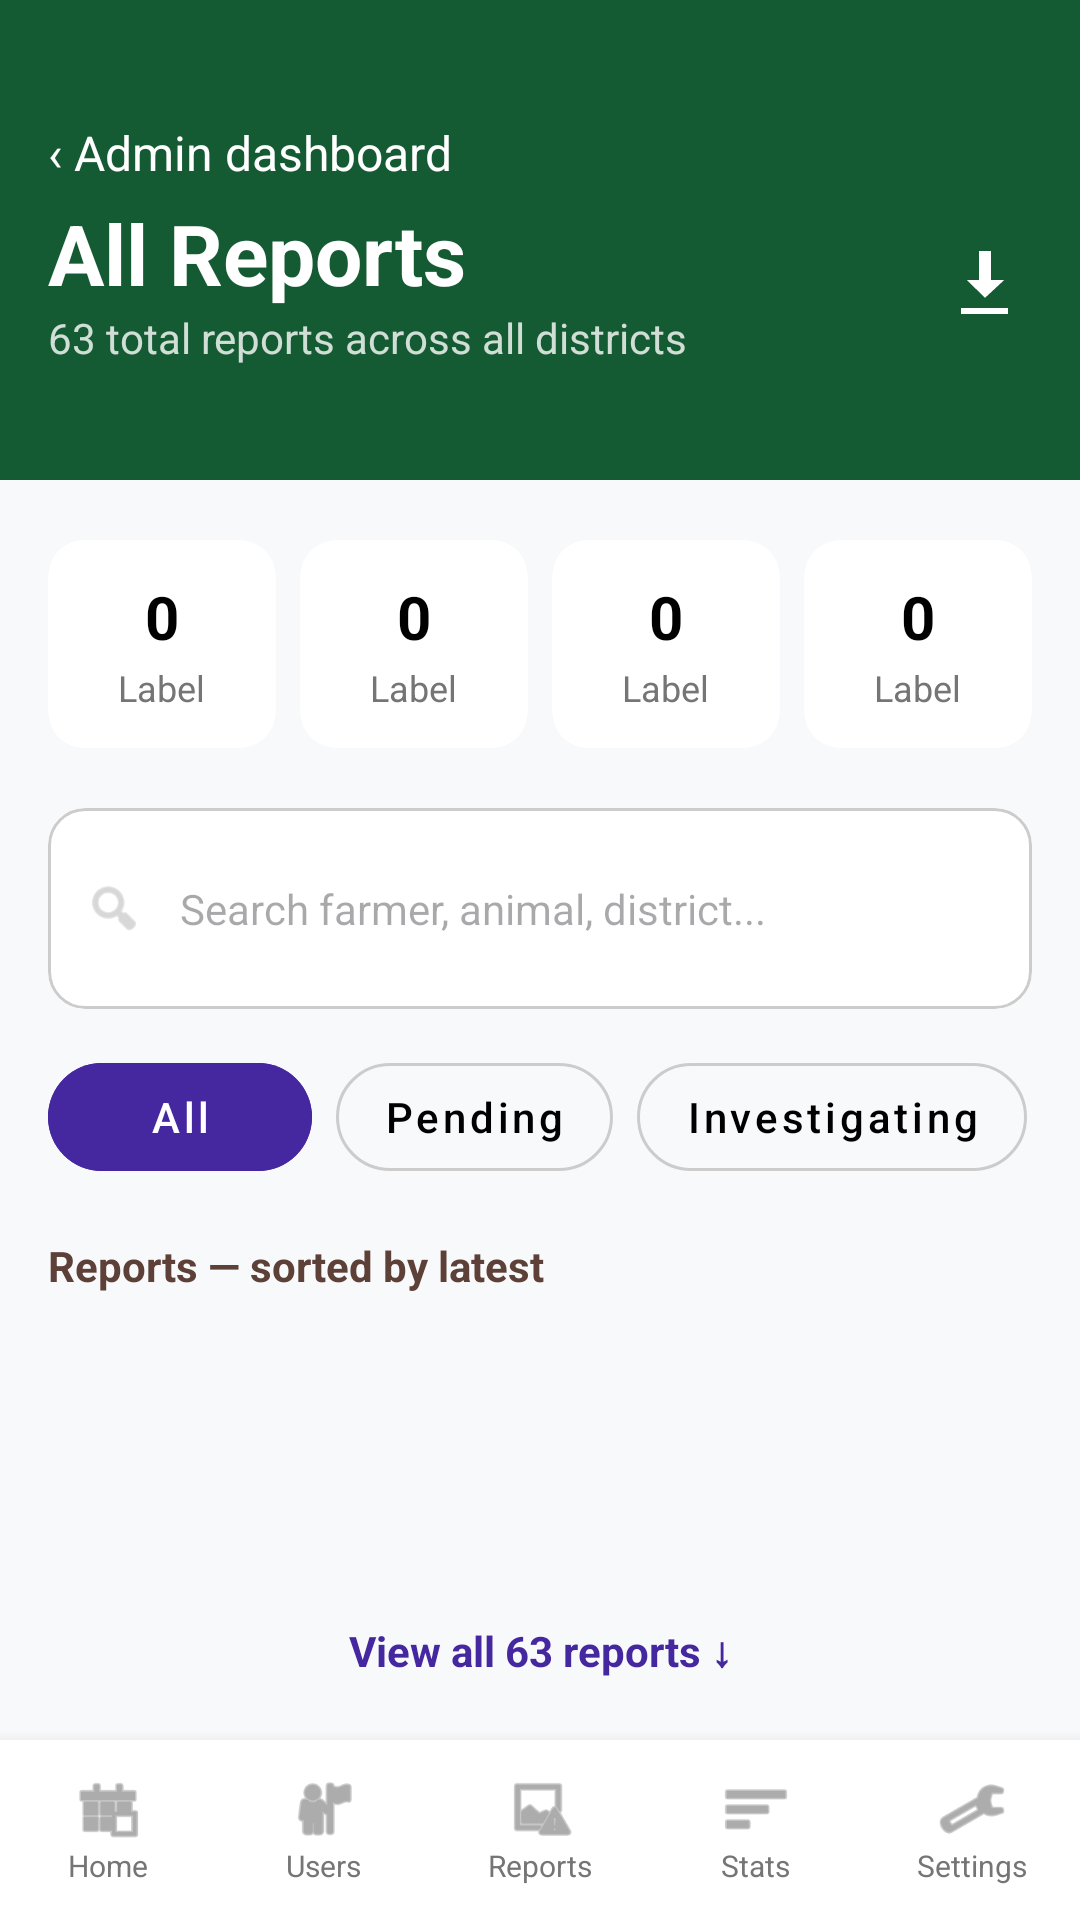

Screen size 1080w x 1920h. Icon name, then its center in pixels as point (x, y):
download: point (984, 282)
sort by size: point (756, 1809)
today: point (108, 1810)
